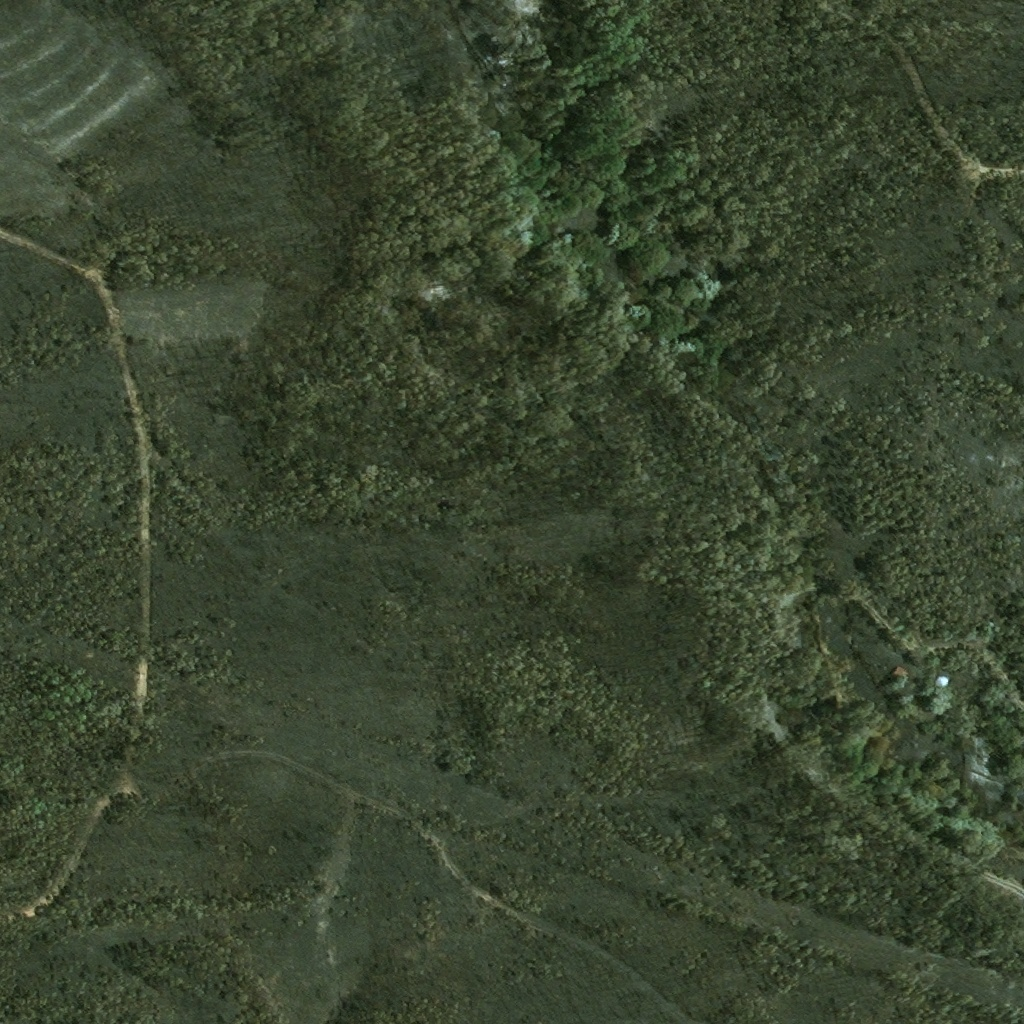3 destroyed: (935, 674, 948, 689)
